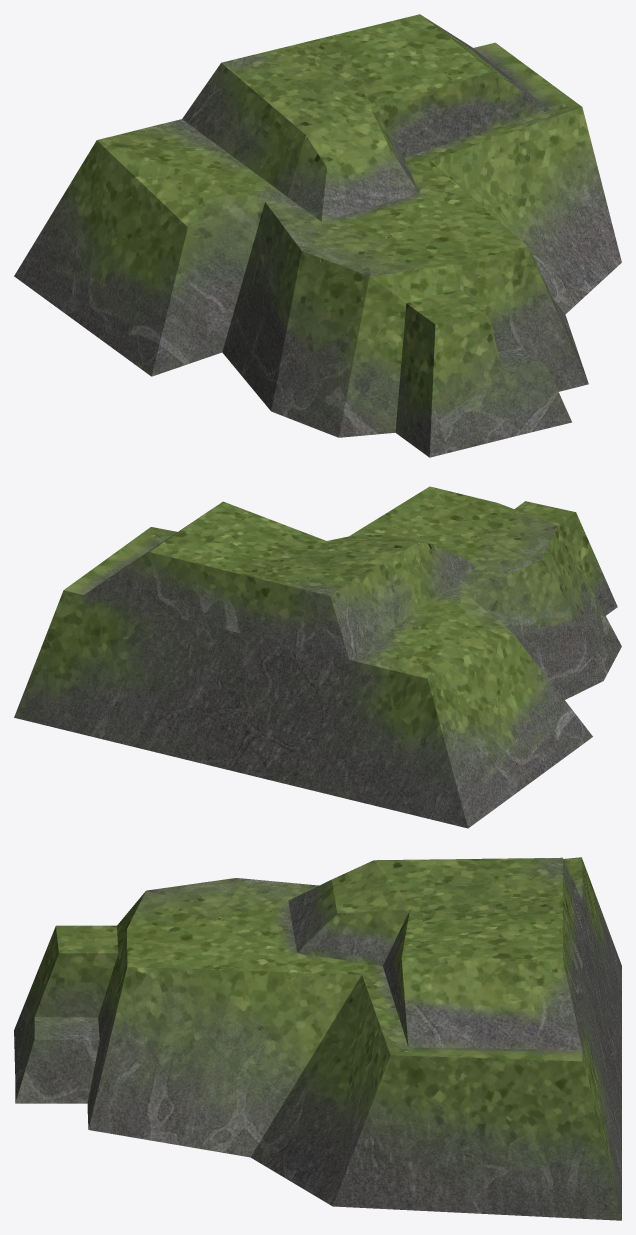
3 views of the same model, one above another, from view 1: azimuth 30°, elevation 25°; view 2: azimuth 150°, elevation 25°; view 3: azimuth 270°, elevation 25° (orthographic). The views are drawn at different scales.
Parts seen in each view (by area): view 1: 3DObj_Land_1; view 2: 3DObj_Land_1; view 3: 3DObj_Land_1.
Part boxes in pixels (bbox=[...]): 3DObj_Land_1: bbox=[14, 14, 621, 457]; 3DObj_Land_1: bbox=[14, 486, 621, 828]; 3DObj_Land_1: bbox=[14, 857, 621, 1220].
Size of the model in its own units: 541 by 198 by 546.
Materials: 1 (1 with a texture image).
